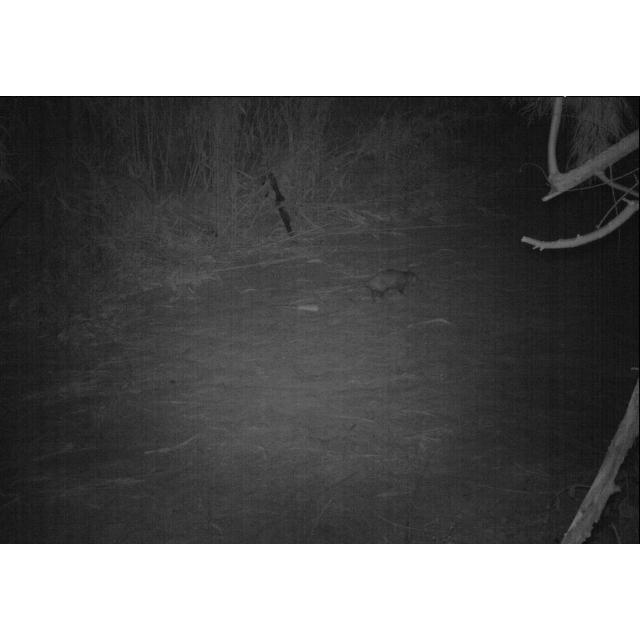animals: (360, 260, 426, 304)
